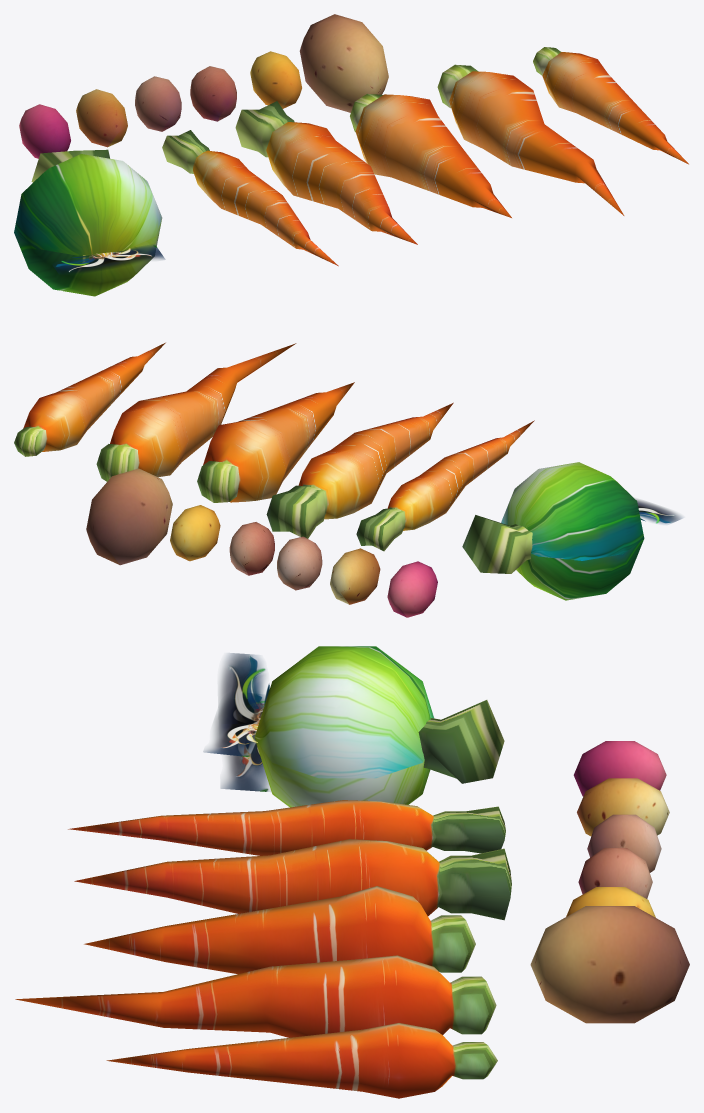
The model's file is veggies.glb.
The picture shows the model from 3 angles, top to bottom: view 1: azimuth 30°, elevation 25°; view 2: azimuth 150°, elevation 25°; view 3: azimuth 270°, elevation 25°; orthographic projection. The views are drawn at different scales.
Parts seen in each view (by area): view 1: Plane.005, Cube.001, Cube, Cube.002, Cube.003, Cube.004, Icosphere.005, Icosphere.002, Icosphere.004, Icosphere.003, Icosphere, Icosphere.001; view 2: Plane.005, Cube.002, Cube, Cube.001, Cube.003, Icosphere.005, Cube.004, Icosphere.003, Icosphere.002, Icosphere.004, Icosphere, Icosphere.001; view 3: Plane.005, Cube.001, Cube.002, Cube, Cube.004, Cube.003, Icosphere.005, Icosphere.002, Icosphere.003, Icosphere, Icosphere.001, Icosphere.004.
Boxes of the visible parts, box(x1,y1,x2,y2) form: Plane.005: box(14, 149, 164, 296); Cube.001: box(437, 64, 624, 215); Cube: box(350, 93, 511, 217); Cube.002: box(235, 101, 417, 244); Cube.003: box(162, 130, 338, 266); Cube.004: box(533, 47, 688, 164); Icosphere.005: box(299, 14, 388, 112); Icosphere.002: box(76, 89, 127, 147); Icosphere.004: box(250, 51, 301, 108); Icosphere.003: box(19, 104, 70, 158); Icosphere: box(190, 66, 236, 121); Icosphere.001: box(135, 76, 181, 131); Plane.005: box(462, 462, 682, 600); Cube.002: box(266, 402, 453, 538); Cube: box(197, 382, 354, 502); Cube.001: box(96, 343, 296, 481); Cube.003: box(356, 420, 534, 551); Icosphere.005: box(86, 468, 172, 565); Cube.004: box(14, 342, 165, 456); Icosphere.003: box(387, 561, 437, 617); Icosphere.002: box(330, 548, 380, 604); Icosphere.004: box(170, 505, 220, 561); Icosphere: box(229, 522, 274, 575); Icosphere.001: box(277, 536, 322, 590); Plane.005: box(203, 646, 504, 807); Cube.001: box(15, 955, 496, 1037); Cube.002: box(74, 839, 511, 920); Cube: box(84, 886, 475, 973); Cube.004: box(106, 1023, 497, 1098); Cube.003: box(68, 800, 505, 855); Icosphere.005: box(530, 906, 689, 1023); Icosphere.002: box(577, 778, 669, 836); Icosphere.003: box(573, 741, 666, 796); Icosphere: box(578, 848, 652, 898); Icosphere.001: box(587, 814, 661, 872); Icosphere.004: box(566, 887, 655, 917).
Bounding box in the file's own units: 0.5414 × 0.1111 × 0.3949.
3 materials, 3 textured.
